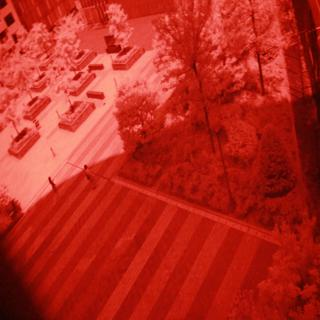person: (79, 157, 101, 194), (43, 172, 63, 204)
